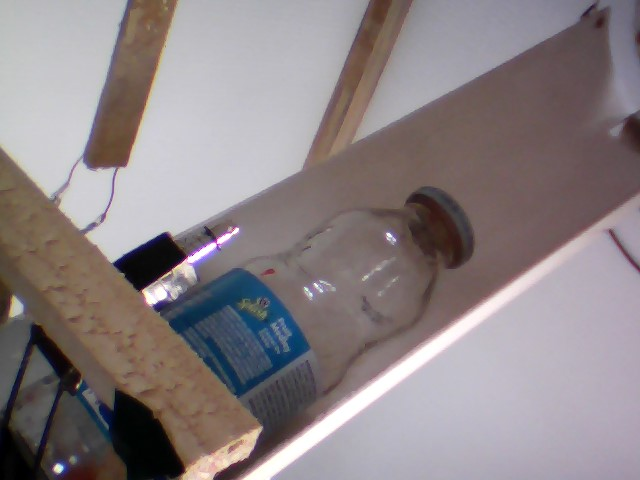vidrio: (168, 177, 491, 425)
